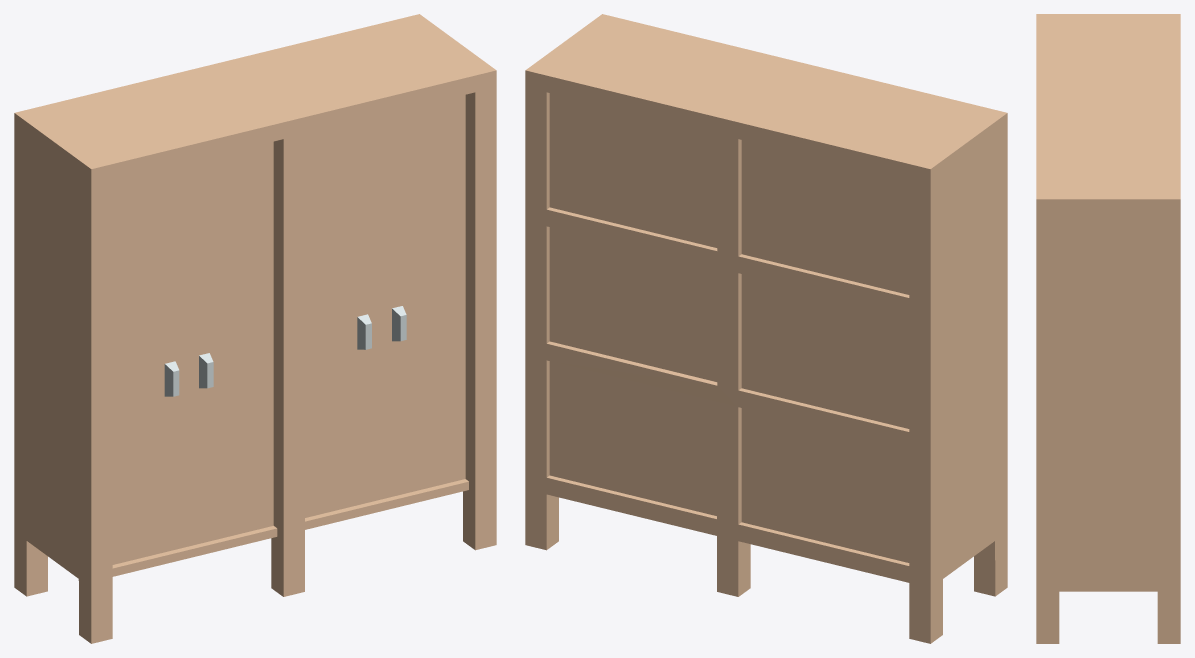
The model's file is armadio.glb.
3 views of the same model, side by side, from view 1: azimuth 30°, elevation 25°; view 2: azimuth 150°, elevation 25°; view 3: azimuth 270°, elevation 25° (orthographic). The views are drawn at different scales.
Parts seen in each view (by area): view 1: Structure, Left-right, Right-right, Left-left, Right-left; view 2: Structure; view 3: Structure.
Part boxes in pixels (x1,y1,x2,y2): Structure: [14, 14, 496, 643]; Left-right: [187, 141, 273, 546]; Right-right: [380, 94, 465, 499]; Left-left: [112, 162, 187, 564]; Right-left: [305, 115, 380, 517]; Structure: [525, 14, 1007, 643]; Structure: [1036, 14, 1180, 643].
Size of the model in its own units: 0.4574 by 0.512 by 0.1507.
